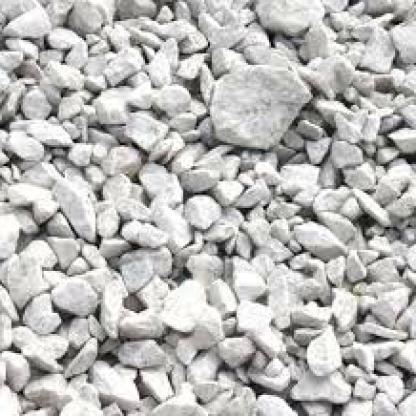Metamorphic_Marble: (206, 61, 311, 157), (284, 212, 348, 265), (54, 170, 100, 242), (158, 269, 206, 332), (86, 357, 141, 410), (8, 323, 63, 374), (132, 153, 181, 210), (0, 204, 29, 284), (48, 275, 103, 317), (225, 250, 269, 301), (116, 216, 172, 256), (113, 303, 166, 344), (301, 323, 342, 374), (151, 74, 191, 121), (174, 193, 223, 229), (214, 330, 256, 370), (90, 88, 132, 126), (149, 393, 196, 414)
